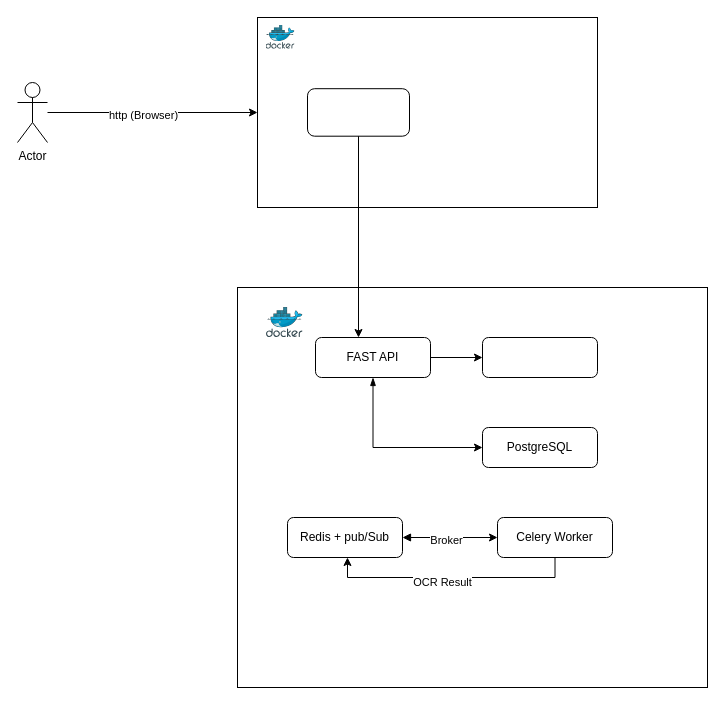
Some shapes in this 725 by 705 pixel diagram are drawn without their labels. The shapes that lost their labels are listed below. From the top down, each one's centre as x and y in pixels, then its label:
the point at 358,112: NEXT JS
the point at 540,357: MinIO
